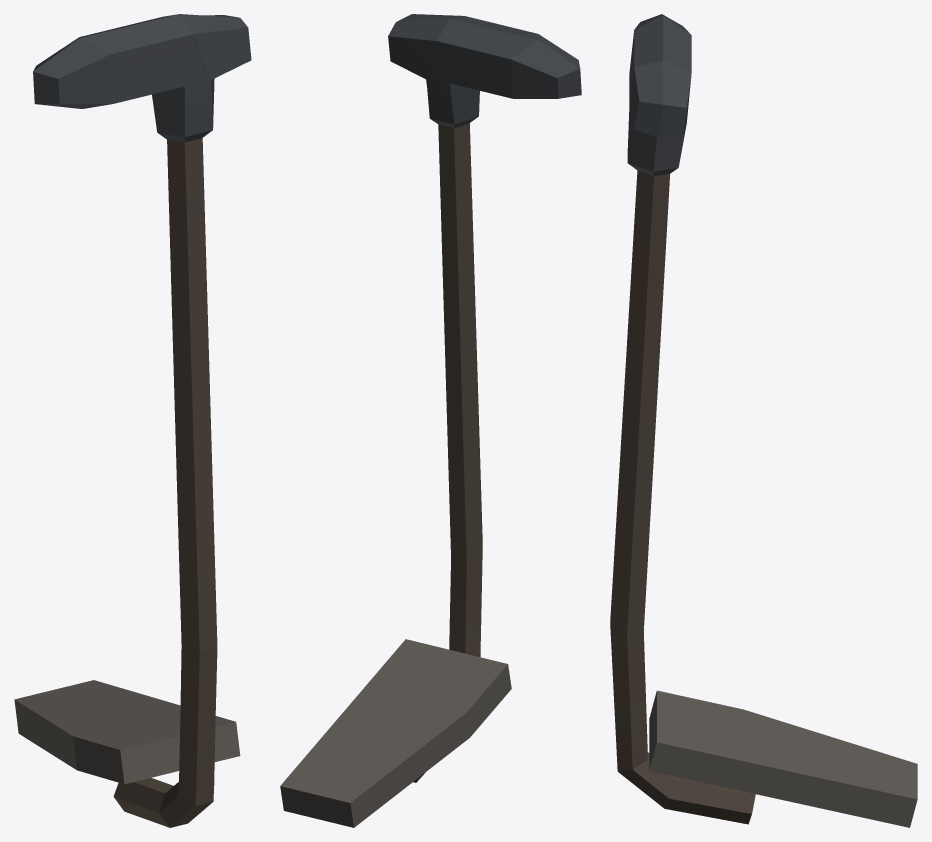
File: SM_Veh_Excavator_01_Lever_02.obj
The picture shows the model from 3 angles, left to right: view 1: azimuth 30°, elevation 25°; view 2: azimuth 150°, elevation 25°; view 3: azimuth 270°, elevation 25°; orthographic projection. The views are drawn at different scales.
Parts seen in each view (by area): view 1: SM_Veh_Excavator_01_Lever_02_0; view 2: SM_Veh_Excavator_01_Lever_02_0; view 3: SM_Veh_Excavator_01_Lever_02_0.
Boxes of the visible parts, x1,y1,x2,y2 form: SM_Veh_Excavator_01_Lever_02_0: (14,14,251,827); SM_Veh_Excavator_01_Lever_02_0: (280,14,581,827); SM_Veh_Excavator_01_Lever_02_0: (610,14,917,827).
Bounding box in the file's own units: 0.2518 × 0.9589 × 0.3513.
1 material, 1 textured.
